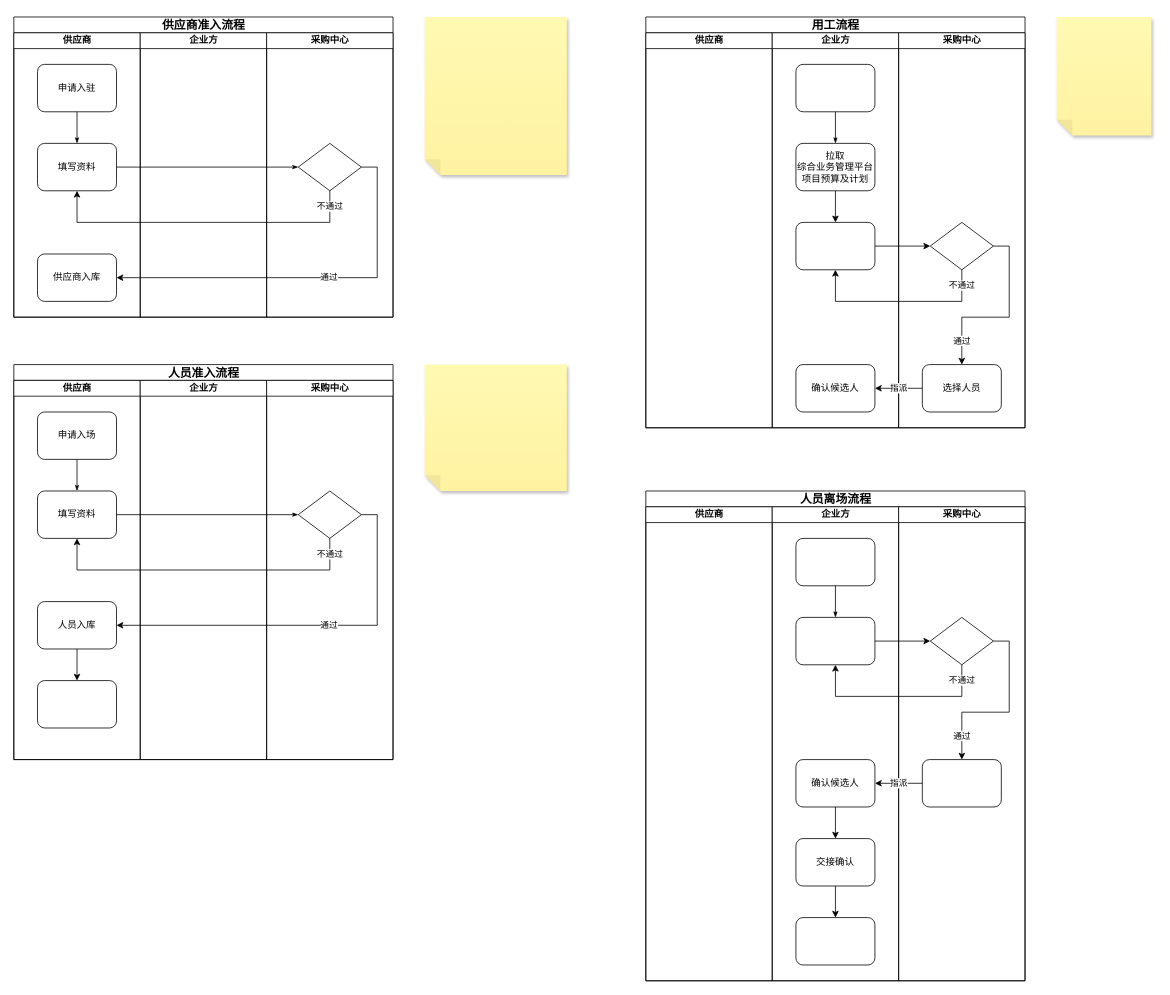
Image size: 1170x995. Some labels were removed from this diagram. The centre of each missing label's shape, as x and y in pixels:
"上传保密协议" belongs at (77,704).
"人员资质审核" belongs at (329,514).
"企业资质审核" belongs at (329,167).
"入场" belongs at (835,941).
"发起人员离场申请" belongs at (835,562).
"发起用工" belongs at (835,88).
"填写用工需求" belongs at (835,246).
"数据变化 1. 人员新增 2. 外协人员新增 3. 可选，判断是否存在角色 4. 附件新增" belongs at (496,428).
"数据变化 1. 供应商表新增 2. 人员新增 3. 外协人员新增 4. 可选，判断是否存在角色 5.附件新增" belongs at (496,96).
"数据变化 1. 外协订单新增 2. 订单人员新增" belongs at (1104,77).
"用工离场审核" belongs at (961,641).
"用工需求审核" belongs at (961,246).
"选择交接人员" belongs at (961,783).
"选择原因" belongs at (835,641).
